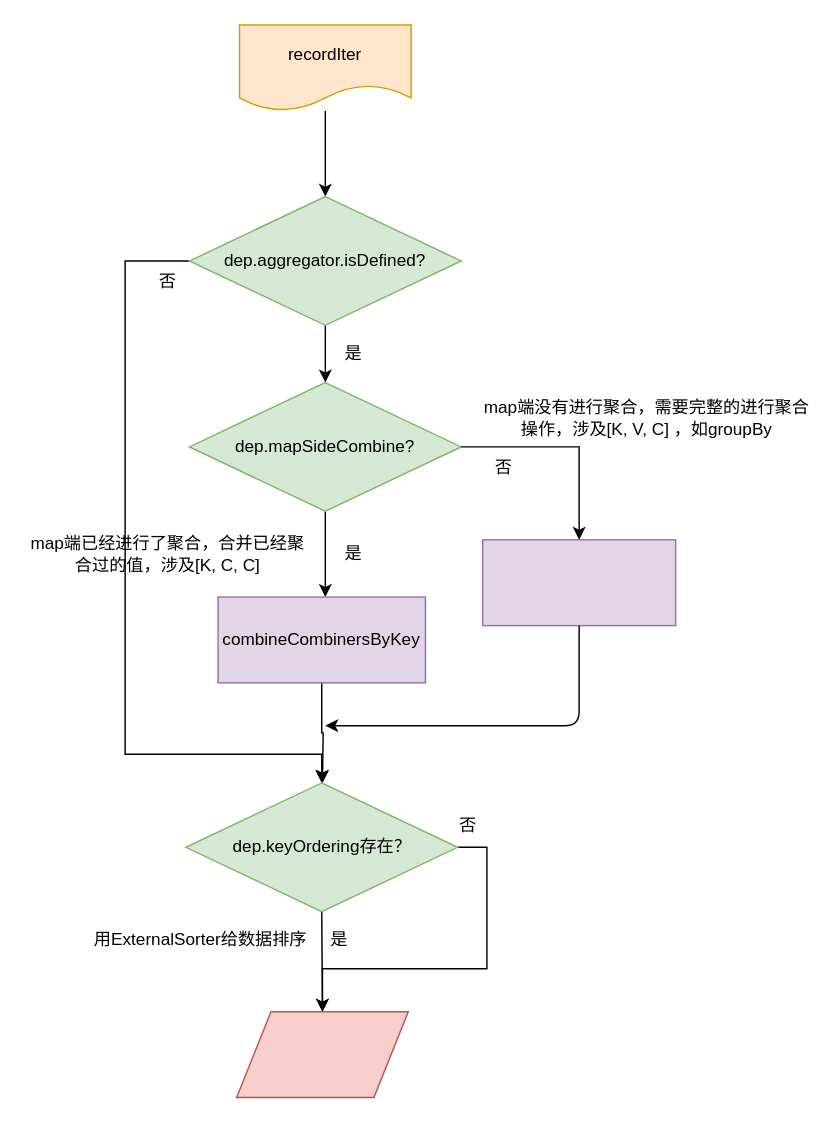
This 835x1123 diagram has some shape labels left out. Each missing label, with the centre of its shape:
combineValuesByKey: the point at 578,582
resultIter: the point at 321,1054
